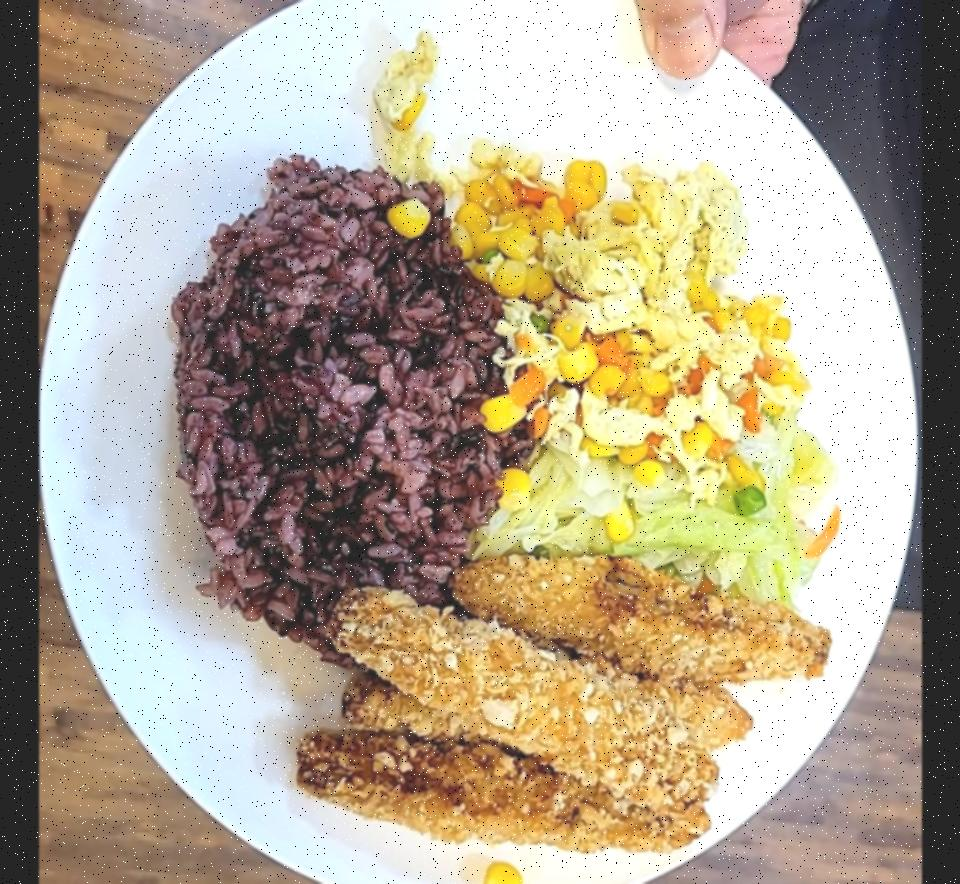fried spanish mackerel: (292, 548, 837, 850)
plate: (38, 0, 904, 884)
purple rice: (171, 157, 504, 654)
side dish: (461, 143, 802, 478), (491, 432, 844, 578)
